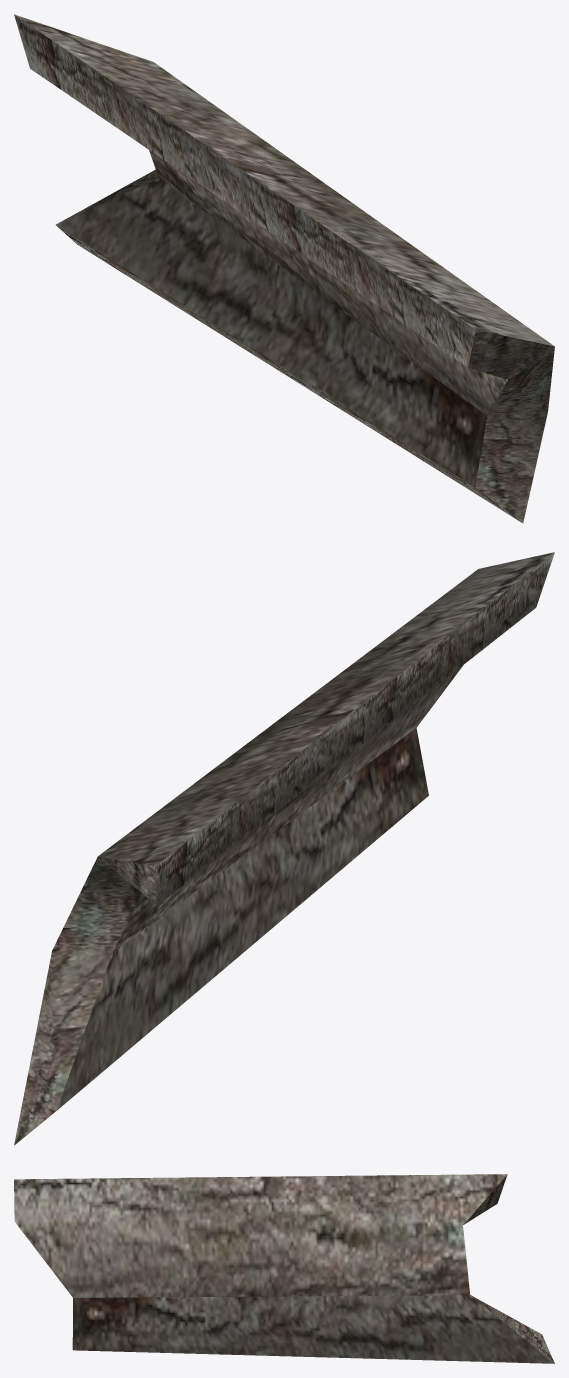
Rendered from tree_firhigh_piece3.glb.
3 renders of one model, top to bottom at view 1: azimuth 30°, elevation 25°; view 2: azimuth 150°, elevation 25°; view 3: azimuth 270°, elevation 25°, orthographic. The views are drawn at different scales.
Size of the model in its own units: 7.14 by 13.42 by 40.68.
1 material, 1 textured.
